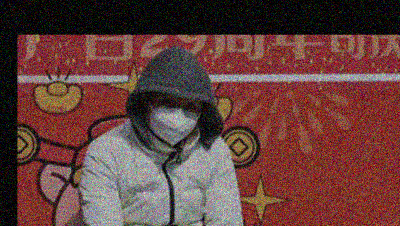with_mask: (142, 93, 201, 148)
